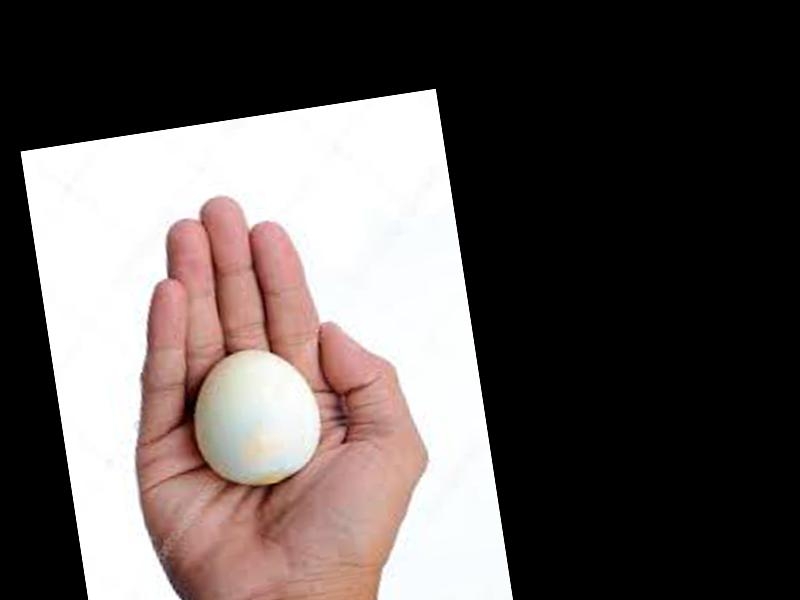Eggs: (186, 339, 325, 493)
